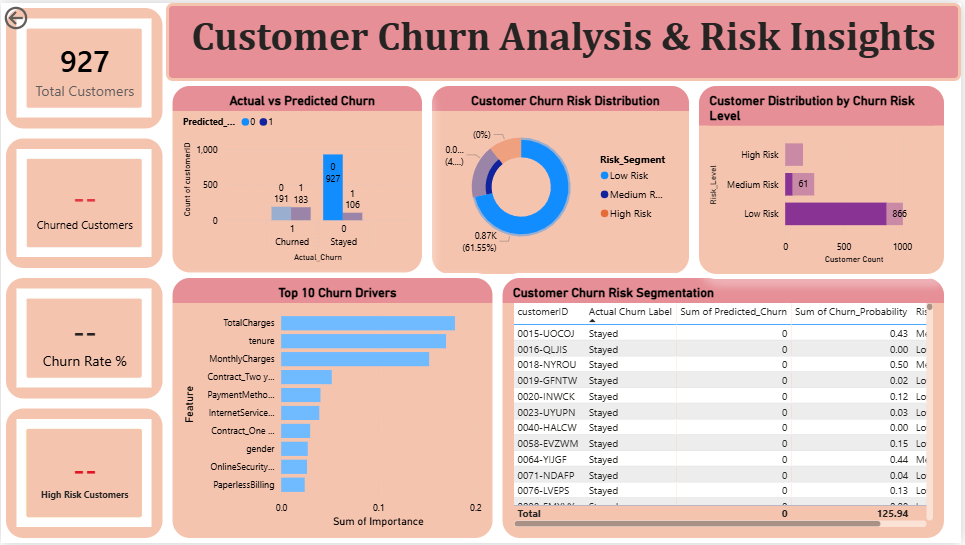

The dashboard page shown, as its layout file describes it:
{"tool":"powerbi","page":{"name":"Executive Dashboard","canvas":[1280,720],"ordinal":0},"visuals":[{"type":"cardVisual","fields":{"Data":["churn_predictions.Total Customers"]},"box":[0,0,222,174],"z":0},{"type":"cardVisual","fields":{"Data":["churn_predictions.Churned Customers"]},"box":[0,174,222,186],"z":1000},{"type":"cardVisual","fields":{"Data":["churn_predictions.Churn Rate %"]},"box":[0,360,222,174],"z":2000},{"type":"donutChart","title":"Customer Churn Risk Distribution","fields":{"Category":["churn_predictions.Risk_Segment"],"Y":["CountNonNull(churn_predictions.customerID)"]},"box":[568,104,356,264],"z":3000},{"type":"clusteredColumnChart","title":"Actual vs Predicted Churn","fields":{"Category":["churn_predictions.Actual Churn Label","churn_predictions.Actual_Churn"],"Y":["CountNonNull(churn_predictions.customerID)"],"Series":["churn_predictions.Predicted_Churn"]},"box":[222,104,346,262],"z":4000},{"type":"barChart","title":"Top 10 Churn Drivers","fields":{"Category":["feature_importance.Feature"],"Y":["Sum(feature_importance.Importance)"]},"box":[222,360,440,360],"z":5000},{"type":"tableEx","title":"Customer Churn Risk Segmentation","fields":{"Values":["churn_predictions.customerID","churn_predictions.Actual Churn Label","Sum(churn_predictions.Predicted_Churn)","Sum(churn_predictions.Churn_Probability)","churn_predictions.Risk_Level"]},"box":[662,360,602,360],"z":6000},{"type":"actionButton","box":[0,0,100,40],"z":7000},{"type":"clusteredBarChart","title":"Customer Distribution by Churn Risk Level","fields":{"Category":["churn_predictions.Risk_Level"],"Y":["churn_predictions.Customer Count"]},"box":[924,104,340,264],"z":8000},{"type":"cardVisual","fields":{"Data":["churn_predictions.High Risk Customers"]},"box":[0,534,222,186],"z":9000},{"type":"textbox","box":[220,0,1060,104],"z":10000}]}

Visuals, with their boxes in screenshot pixels (x1, y1, x2, y2), scaled from the page's 1280x720 canvas onto the 965x545 screenshot:
cardVisual - churn_predictions.Total Customers: bbox=[0, 0, 167, 132]
cardVisual - churn_predictions.Churned Customers: bbox=[0, 132, 167, 272]
cardVisual - churn_predictions.Churn Rate %: bbox=[0, 272, 167, 404]
"Customer Churn Risk Distribution" donutChart: bbox=[428, 79, 697, 279]
"Actual vs Predicted Churn" clusteredColumnChart: bbox=[167, 79, 428, 277]
"Top 10 Churn Drivers" barChart: bbox=[167, 272, 499, 544]
"Customer Churn Risk Segmentation" tableEx: bbox=[499, 272, 953, 544]
actionButton: bbox=[0, 0, 75, 30]
"Customer Distribution by Churn Risk Level" clusteredBarChart: bbox=[697, 79, 953, 279]
cardVisual - churn_predictions.High Risk Customers: bbox=[0, 404, 167, 544]
textbox: bbox=[166, 0, 964, 79]
